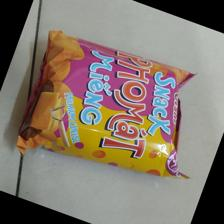Oishi_phomat: (14, 27, 203, 184)
